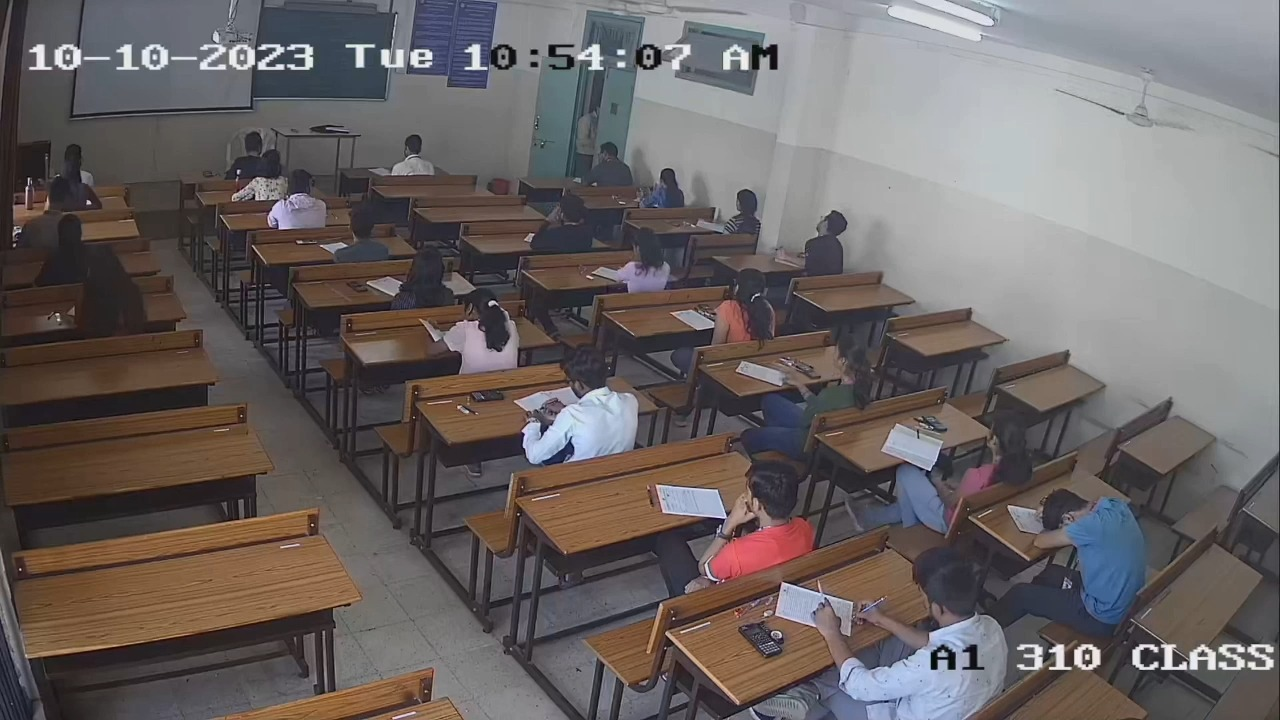cell-phones: (740, 623, 785, 660), (468, 388, 506, 404), (921, 413, 948, 434), (795, 362, 822, 380), (346, 280, 368, 293), (697, 303, 716, 316)
person: (814, 548, 1007, 719), (515, 349, 641, 463), (951, 413, 1035, 487), (793, 337, 874, 408), (711, 267, 775, 340), (386, 248, 457, 309)
